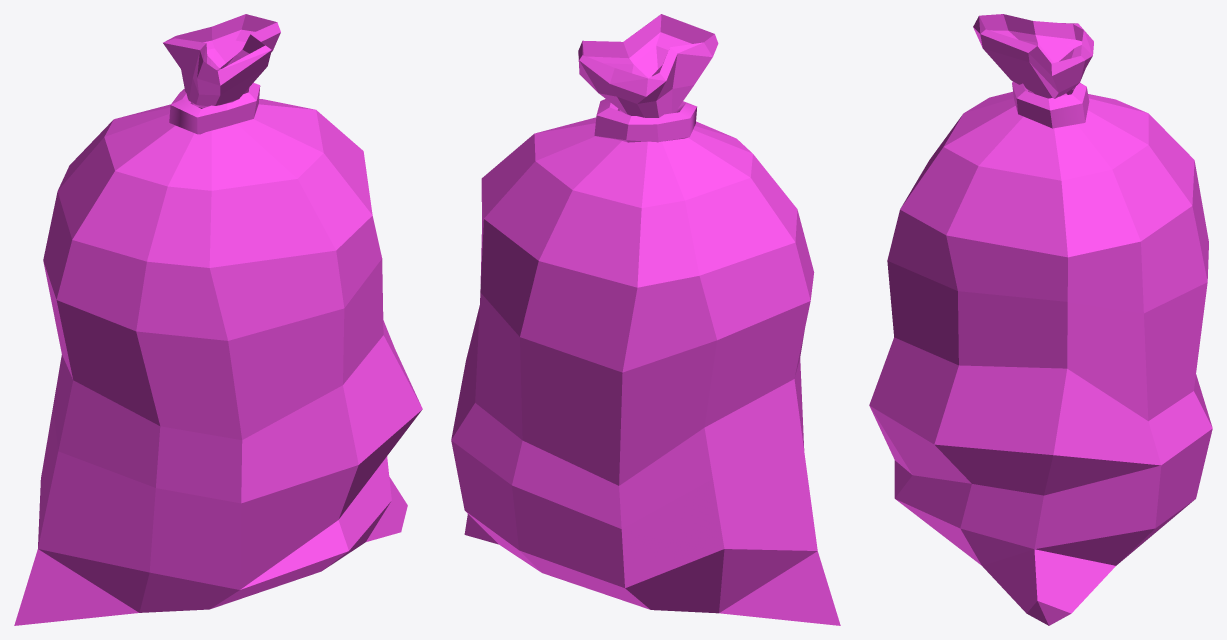
File: SM_Bag_Rope_Fantasy.fbx
The picture shows the model from 3 angles, left to right: view 1: azimuth 30°, elevation 25°; view 2: azimuth 150°, elevation 25°; view 3: azimuth 270°, elevation 25°; orthographic projection. The views are drawn at different scales.
Parts seen in each view (by area): view 1: SM_Bag_Rope_Fantasy; view 2: SM_Bag_Rope_Fantasy; view 3: SM_Bag_Rope_Fantasy.
Boxes of the visible parts, bbox=[...] form: SM_Bag_Rope_Fantasy: bbox=[14, 14, 422, 625]; SM_Bag_Rope_Fantasy: bbox=[451, 14, 840, 625]; SM_Bag_Rope_Fantasy: bbox=[869, 14, 1212, 625].
Bounding box in the file's own units: 0.5212 × 0.7092 × 0.423.
